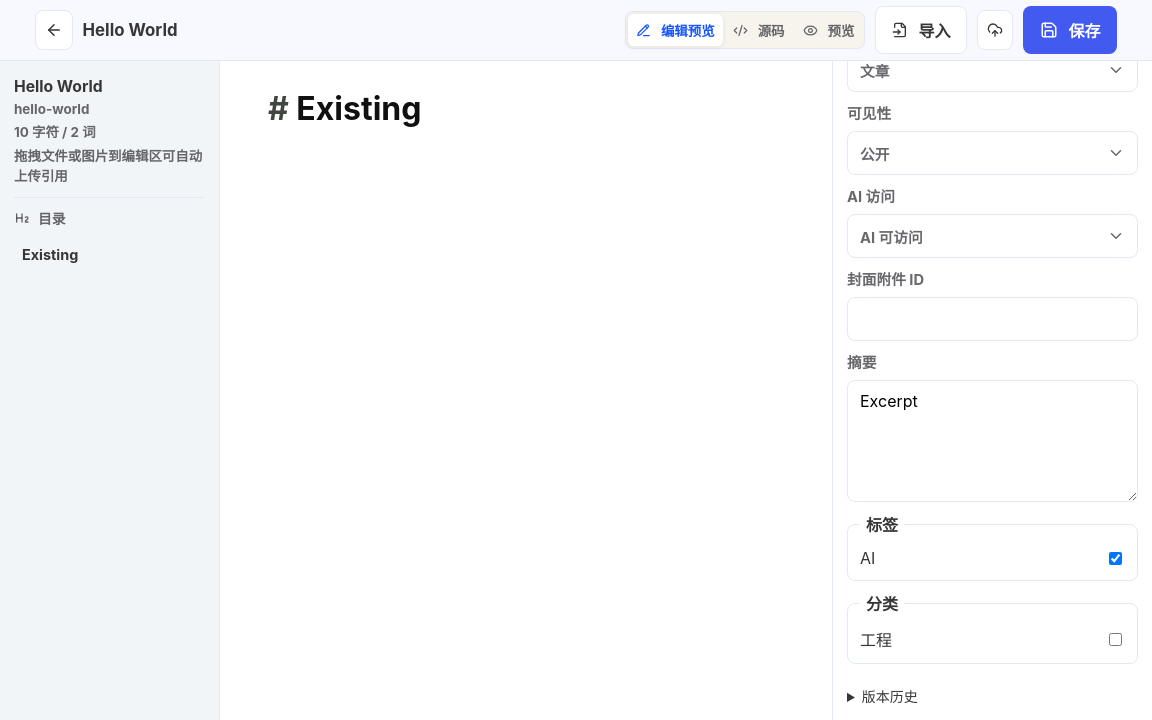
Test: StudioContentEditorPage › does not show a delete button for auto snapshots
The image size is (1152, 720).
(page scrolled)
Click the heading "版本历史". click: (890, 697)
box: [862,688,918,705]
(page scrolled)
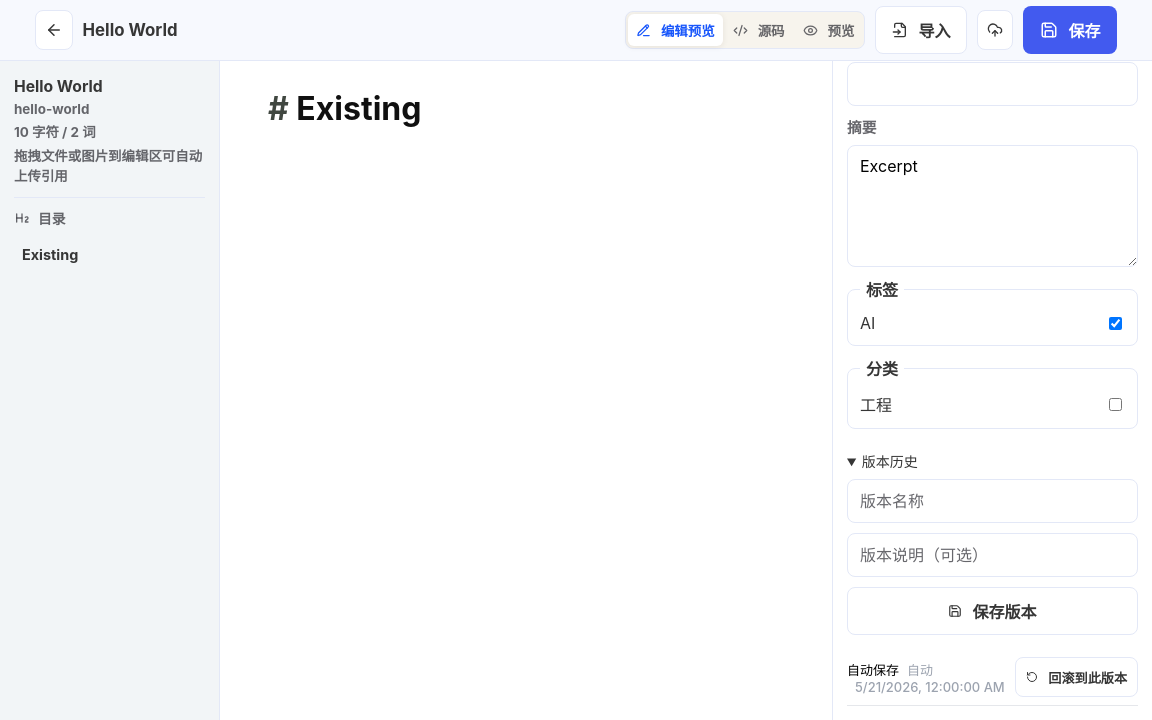
Check: the button "回滚到此版本" is shown, box [1015,657,1138,697]
